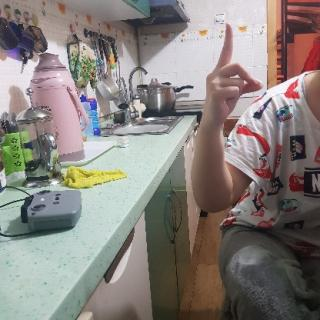TAA: (200, 22, 264, 132)
